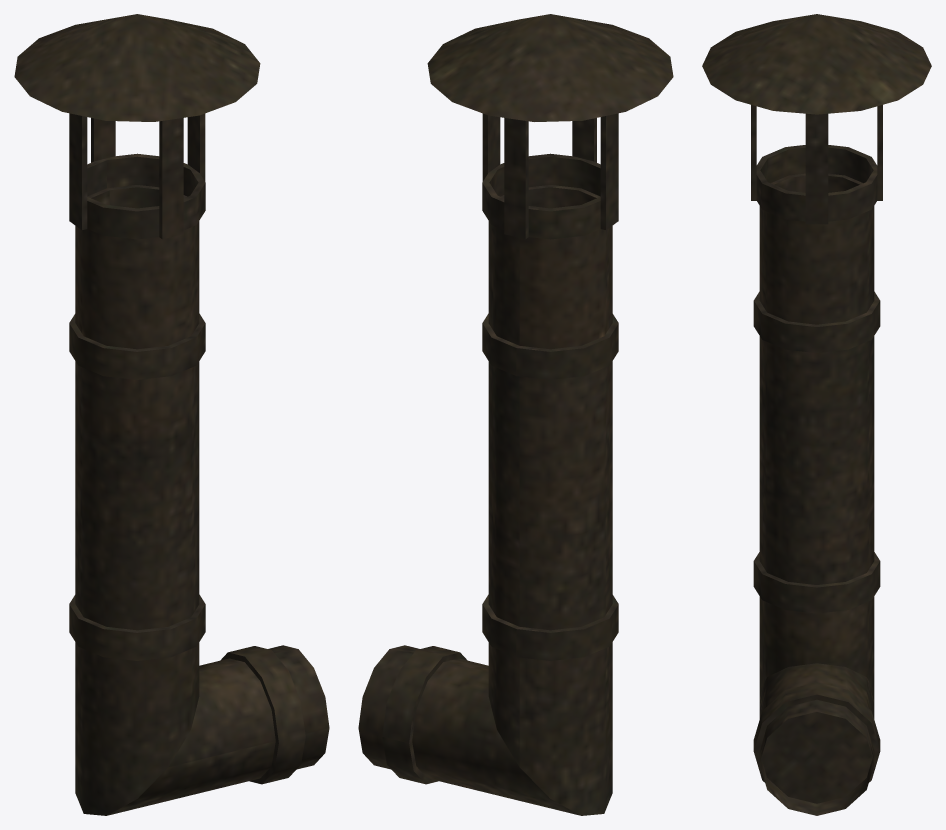
File: chimney_a_3_1.dae
The picture shows the model from 3 angles, left to right: view 1: azimuth 30°, elevation 25°; view 2: azimuth 150°, elevation 25°; view 3: azimuth 270°, elevation 25°; orthographic projection. The views are drawn at different scales.
Parts seen in each view (by area): view 1: chimney_a_3_1; view 2: chimney_a_3_1; view 3: chimney_a_3_1.
Boxes of the visible parts, x1=… form: chimney_a_3_1: x1=14, y1=14, x2=329, y2=815; chimney_a_3_1: x1=358, y1=14, x2=673, y2=815; chimney_a_3_1: x1=702, y1=14, x2=931, y2=815.
Size of the model in its own units: 0.5 by 0.4 by 1.41.
1 material, 1 textured.
